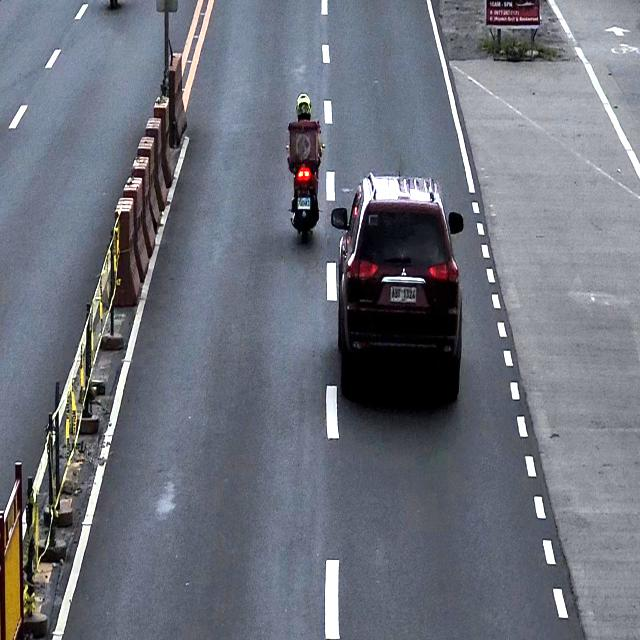Car: (332, 172, 464, 409)
License-Plate: (389, 286, 418, 303), (296, 197, 312, 210)
Motorcycle: (286, 122, 326, 236)
